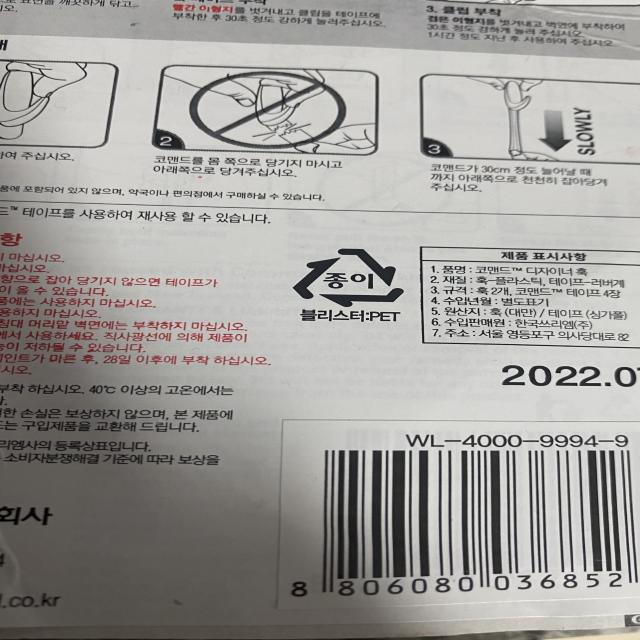Paper: (291, 242, 408, 311)
